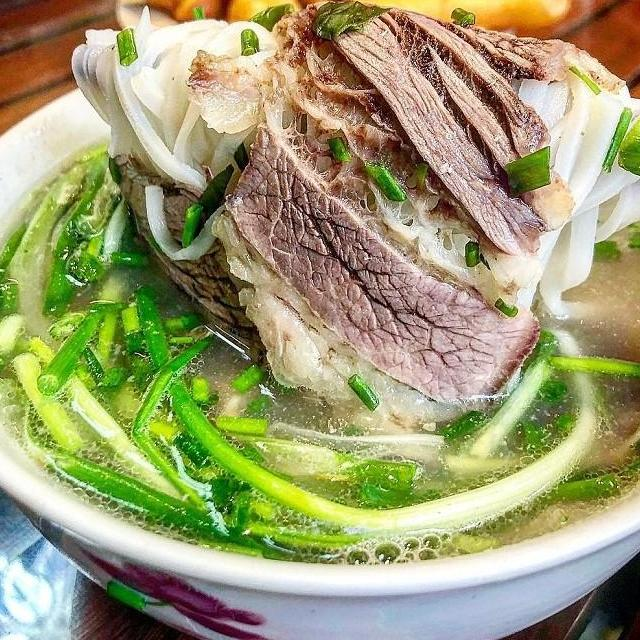banh pho: (64, 0, 282, 200), (513, 67, 640, 325)
pho bo: (0, 14, 640, 640)
thit bo: (204, 0, 573, 445), (99, 145, 282, 343)
